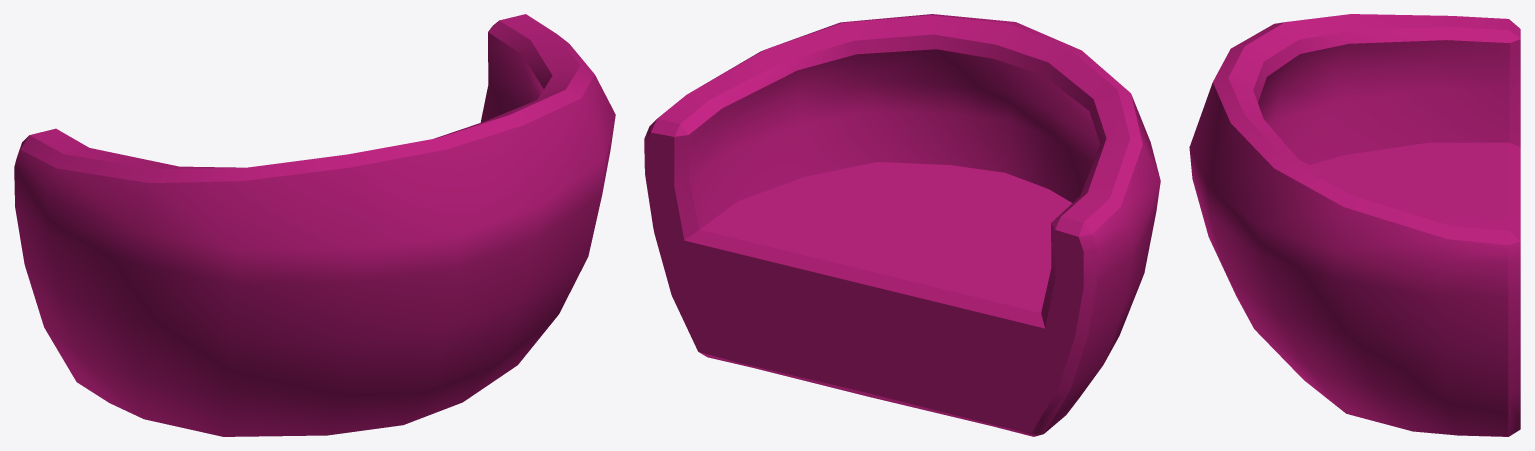
File: fbx_club_roundsofa1.fbx
3 views of the same model, side by side, from view 1: azimuth 30°, elevation 25°; view 2: azimuth 150°, elevation 25°; view 3: azimuth 270°, elevation 25° (orthographic). The views are drawn at different scales.
Visible parts, largest first — view 1: fbx_club_roundsofa1; view 2: fbx_club_roundsofa1; view 3: fbx_club_roundsofa1.
Boxes of the visible parts, <box> form: fbx_club_roundsofa1: <box>14,14,615,436</box>; fbx_club_roundsofa1: <box>644,14,1160,436</box>; fbx_club_roundsofa1: <box>1189,14,1520,436</box>.
Bounding box in the file's own units: 1.81 × 1.03 × 1.11.
1 material, 1 textured.
